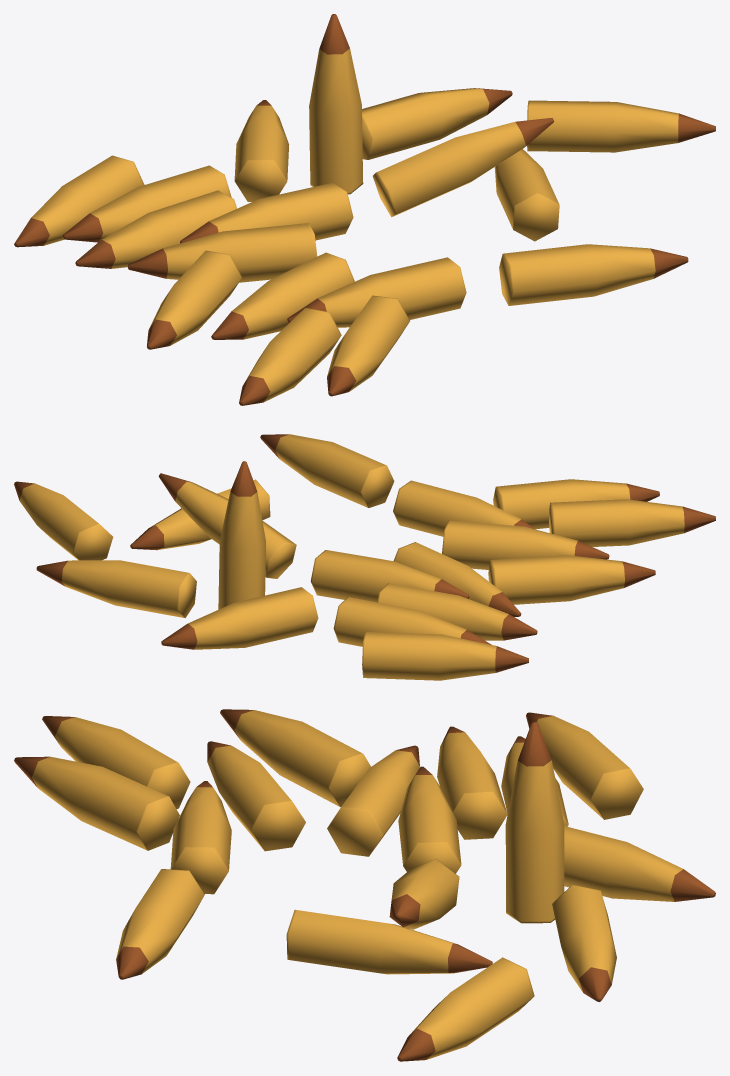
Rendered from Bullets.fbx.
3 views of the same model, one above another, from view 1: azimuth 30°, elevation 25°; view 2: azimuth 150°, elevation 25°; view 3: azimuth 270°, elevation 25° (orthographic). The views are drawn at different scales.
Parts seen in each view (by area): view 1: Cylinder.032, Cylinder.027, Cylinder.024, Cylinder.031, Cylinder.028, Cylinder.025, Cylinder.000, Cylinder.019, Cylinder.018, Cylinder.030, Cylinder.020, Cylinder.033 (+5 smaller); view 2: Cylinder.022, Cylinder.033, Cylinder.021, Cylinder.028, Cylinder.030, Cylinder.032, Cylinder.027, Cylinder.019, Cylinder.020, Cylinder.029, Cylinder.000, Cylinder.018 (+5 smaller); view 3: Cylinder.027, Cylinder.026, Cylinder.029, Cylinder.033, Cylinder.021, Cylinder.024, Cylinder.022, Cylinder.019, Cylinder.030, Cylinder.032, Cylinder.025, Cylinder.028 (+5 smaller).
Part boxes in pixels (bbox=[...]): Cylinder.032: bbox=[499, 244, 688, 305]; Cylinder.027: bbox=[309, 14, 363, 194]; Cylinder.024: bbox=[527, 100, 715, 152]; Cylinder.031: bbox=[372, 118, 554, 217]; Cylinder.028: bbox=[362, 88, 512, 159]; Cylinder.025: bbox=[128, 223, 317, 282]; Cylinder.000: bbox=[287, 257, 466, 327]; Cylinder.019: bbox=[211, 252, 354, 339]; Cylinder.018: bbox=[75, 190, 236, 268]; Cylinder.030: bbox=[239, 307, 341, 405]; Cylinder.020: bbox=[180, 182, 353, 243]; Cylinder.033: bbox=[147, 250, 242, 349]; Cylinder.022: bbox=[362, 631, 528, 680]; Cylinder.033: bbox=[488, 555, 655, 604]; Cylinder.021: bbox=[161, 587, 318, 649]; Cylinder.028: bbox=[36, 560, 196, 618]; Cylinder.030: bbox=[548, 499, 715, 546]; Cylinder.032: bbox=[260, 434, 394, 507]; Cylinder.027: bbox=[218, 461, 265, 609]; Cylinder.019: bbox=[442, 520, 609, 569]; Cylinder.020: bbox=[310, 550, 469, 602]; Cylinder.029: bbox=[493, 479, 659, 529]; Cylinder.000: bbox=[393, 480, 534, 536]; Cylinder.018: bbox=[377, 583, 537, 640]; Cylinder.027: bbox=[505, 721, 564, 923]; Cylinder.026: bbox=[286, 909, 492, 974]; Cylinder.029: bbox=[14, 756, 179, 850]; Cylinder.033: bbox=[220, 709, 370, 807]; Cylinder.021: bbox=[564, 826, 715, 901]; Cylinder.024: bbox=[397, 957, 534, 1061]; Cylinder.022: bbox=[526, 712, 643, 819]; Cylinder.019: bbox=[207, 741, 305, 851]; Cylinder.030: bbox=[42, 716, 190, 808]; Cylinder.032: bbox=[116, 869, 204, 979]; Cylinder.025: bbox=[327, 745, 419, 856]; Cylinder.028: bbox=[552, 884, 616, 1001].
Bounding box in the file's own units: 85.17 × 21.51 × 72.09.
